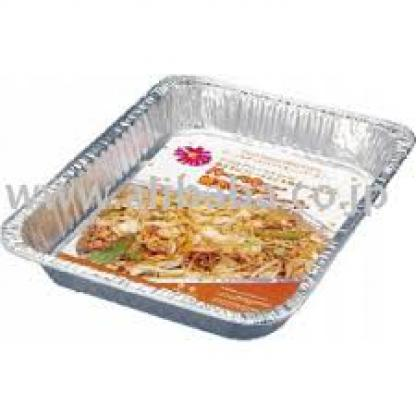BIODEGRADABLE: (70, 178, 328, 286)
METAL: (0, 72, 414, 340)
